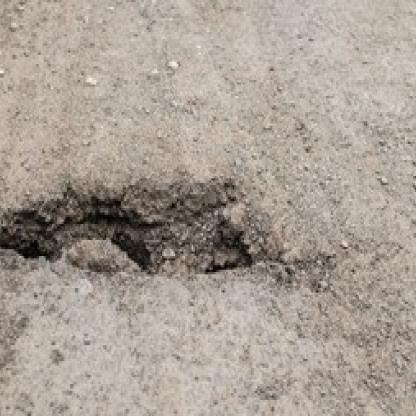pothole: (0, 179, 259, 284)
